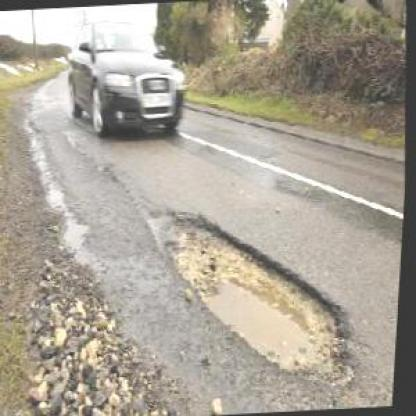pothole: (140, 198, 362, 379)
